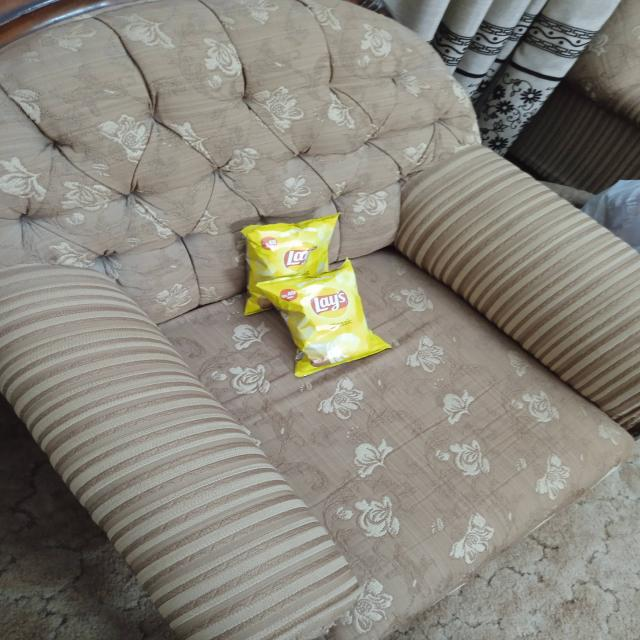Plastic: (275, 276, 390, 364), (246, 218, 339, 272)
